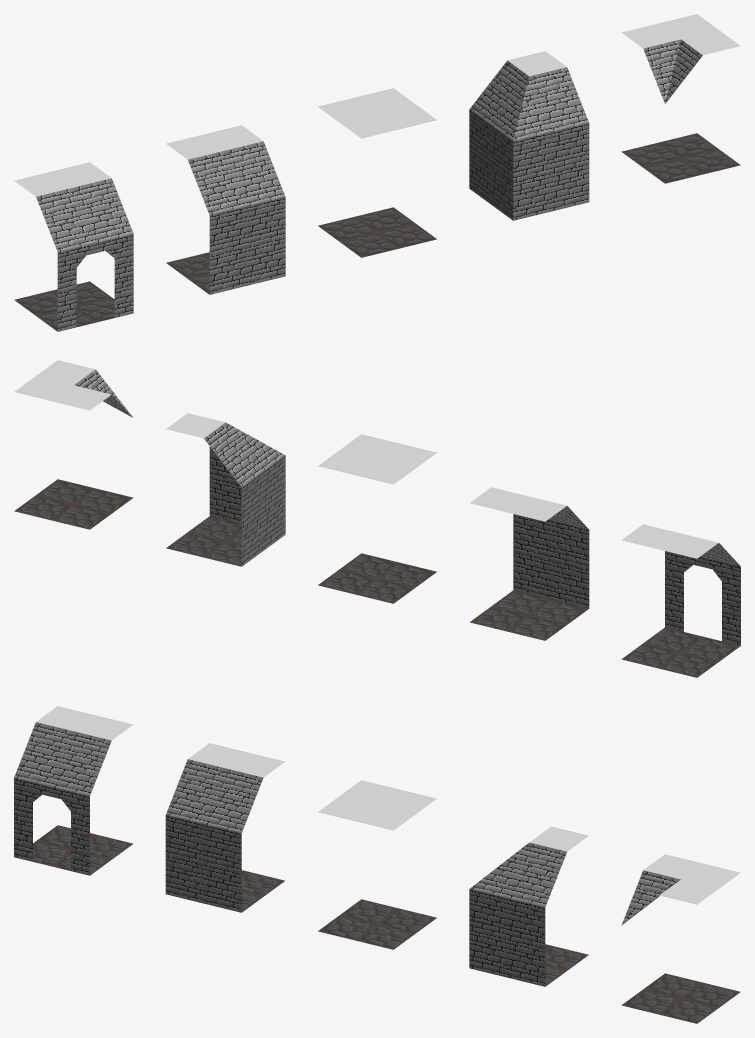
File: UmbralCryptTileset.glb
The picture shows the model from 3 angles, top to bottom: view 1: azimuth 30°, elevation 25°; view 2: azimuth 150°, elevation 25°; view 3: azimuth 330°, elevation 25°; orthographic projection.
Visible parts, largest first — view 1: CornerOut-col, Wall-col, Doorway-col, CornerIn-col, Floor-col; view 2: Wall-col, CornerOut-col, Doorway-col, Floor-col, CornerIn-col; view 3: Wall-col, Doorway-col, CornerOut-col, CornerIn-col, Floor-col.
Part boxes in pixels (x1,y1,x2,y2): CornerOut-col: (469,51,589,220); Wall-col: (166,125,285,294); Doorway-col: (14,162,133,331); CornerIn-col: (621,14,740,183); Floor-col: (318,88,436,257); Wall-col: (470,487,589,640); CornerOut-col: (166,413,285,566); Doorway-col: (621,524,740,677); Floor-col: (318,434,436,603); CornerIn-col: (14,360,133,529); Wall-col: (165,743,284,912); Doorway-col: (14,706,133,875); CornerOut-col: (469,826,588,986); CornerIn-col: (621,854,740,1023); Floor-col: (318,780,436,949).
Size of the model in its own units: 18 by 3 by 2.
3 materials, 2 textured.
